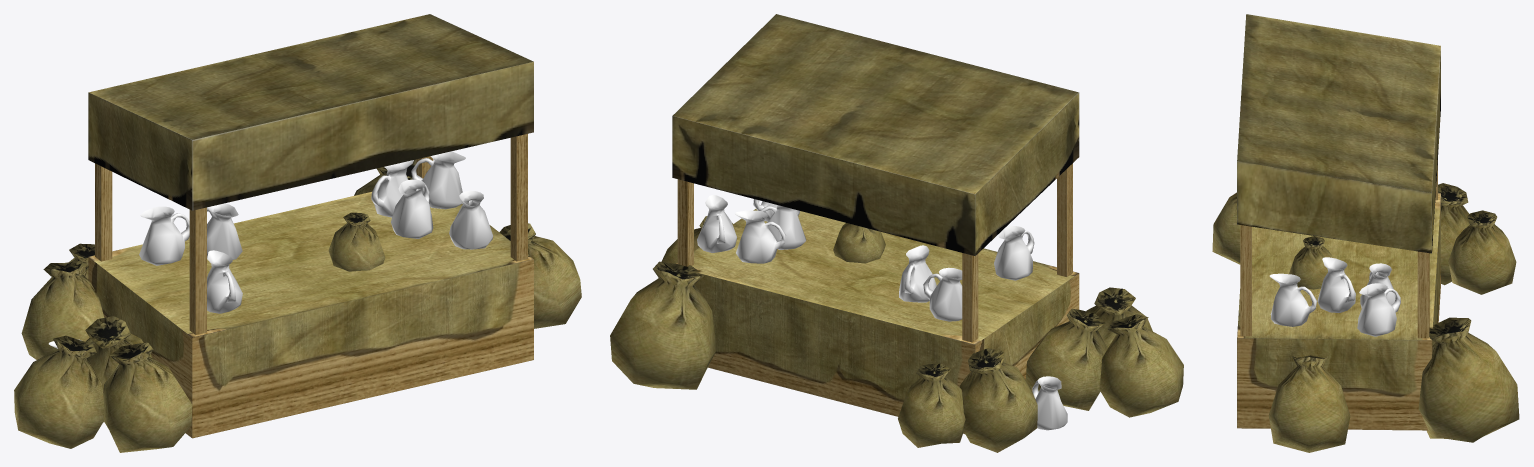
Rendered from store09_2.fbx.
3 renders of one model, left to right at view 1: azimuth 30°, elevation 25°; view 2: azimuth 150°, elevation 25°; view 3: azimuth 270°, elevation 25°, orthographic. The views are drawn at different scales.
Visible parts, largest first — view 1: stand_20, bag_171, bag_174, bag_170, bag_176, bag_173, pot_47, pot_45, pot_42, bag_175, pot_46, pot_48 (+2 smaller); view 2: stand_20, bag_169, bag_171, bag_170, bag_175, bag_172, pot_44, pot_48, pot_47, bag_173, pot_45, bag_174 (+3 smaller); view 3: stand_20, bag_169, bag_176, bag_172, bag_170, pot_45, pot_46, pot_42, bag_173, bag_174, pot_44.
Boxes of the visible parts, box(x1,y1,x2,y2) form: stand_20: box(88, 14, 533, 438); bag_171: box(14, 335, 104, 448); bag_174: box(103, 342, 192, 452); bag_170: box(21, 261, 104, 359); bag_176: box(499, 223, 581, 328); bag_173: box(328, 212, 385, 271); pot_47: box(139, 206, 189, 265); pot_45: box(411, 151, 465, 209); pot_42: box(391, 179, 433, 238); bag_175: box(85, 316, 152, 422); pot_46: box(449, 190, 492, 249); pot_48: box(207, 250, 242, 313); stand_20: box(672, 14, 1079, 433); bag_169: box(610, 261, 716, 389); bag_171: box(1099, 314, 1183, 417); bag_170: box(959, 348, 1037, 452); bag_175: box(1025, 308, 1107, 410); bag_172: box(898, 363, 965, 447); pot_44: box(735, 210, 785, 263); pot_48: box(994, 226, 1034, 280); pot_47: box(923, 267, 962, 321); bag_173: box(833, 223, 885, 263); pot_45: box(697, 195, 737, 252); bag_174: box(1086, 287, 1152, 348); stand_20: box(1237, 14, 1440, 430); bag_169: box(1418, 317, 1519, 442); bag_176: box(1268, 355, 1350, 452); bag_172: box(1448, 210, 1516, 294); bag_170: box(1438, 183, 1469, 285); pot_45: box(1357, 283, 1400, 336); pot_46: box(1269, 273, 1316, 326); pot_42: box(1317, 257, 1355, 312); bag_173: box(1289, 236, 1333, 289); bag_174: box(1212, 192, 1240, 264); pot_44: box(1360, 263, 1395, 308).
Size of the model in its own units: 110 by 58.02 by 57.96.
